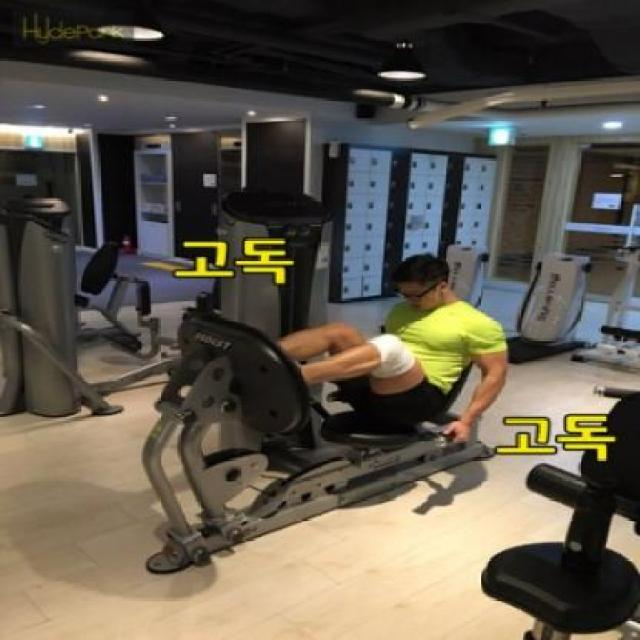leg press: (72, 184, 514, 582)
